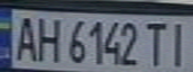1: (84, 17, 106, 65)
2: (118, 18, 142, 68)
4: (103, 18, 124, 66)
6: (63, 16, 87, 64)
A: (9, 12, 42, 62)
H: (33, 14, 63, 63)
I: (163, 18, 193, 69)
T: (142, 18, 172, 68)
